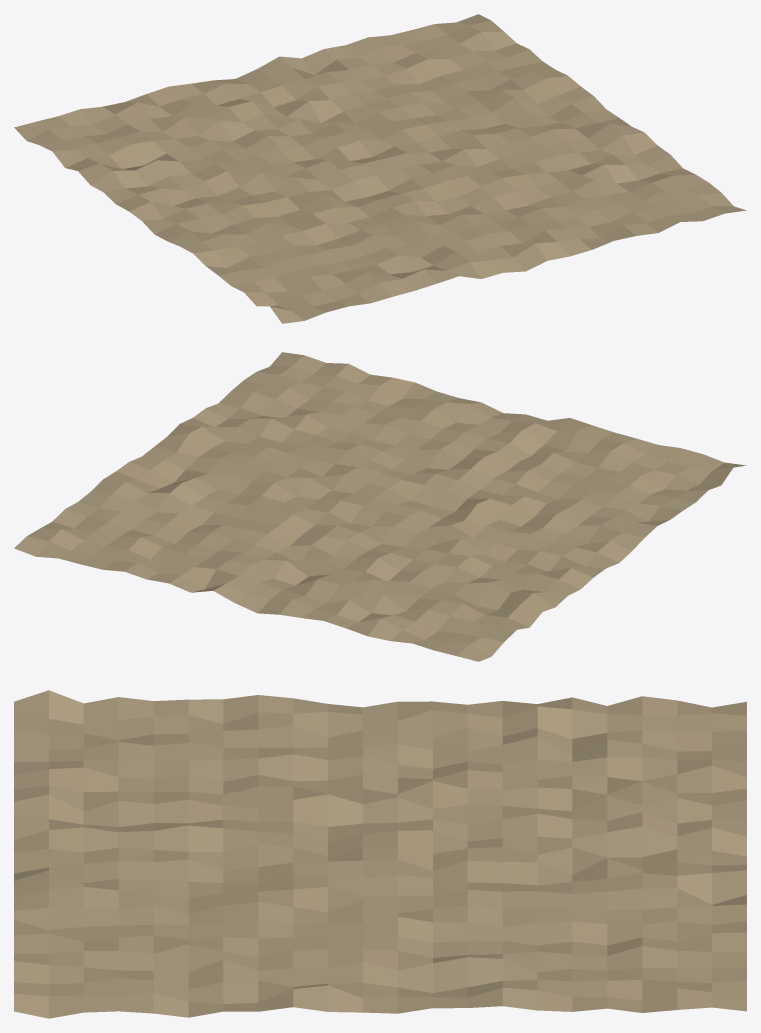
File: Mediterranean_Coast.fbx
3 renders of one model, top to bottom at view 1: azimuth 30°, elevation 25°; view 2: azimuth 150°, elevation 25°; view 3: azimuth 270°, elevation 25°, orthographic. The views are drawn at different scales.
Parts seen in each view (by area): view 1: Mediterranean_Coast; view 2: Mediterranean_Coast; view 3: Mediterranean_Coast.
Part boxes in pixels (left/top/right/bottom): Mediterranean_Coast: left=14, top=14, right=746, bottom=323; Mediterranean_Coast: left=14, top=352, right=746, bottom=661; Mediterranean_Coast: left=14, top=690, right=746, bottom=1018.
Bounding box in the file's own units: 50 × 1.73 × 50.
